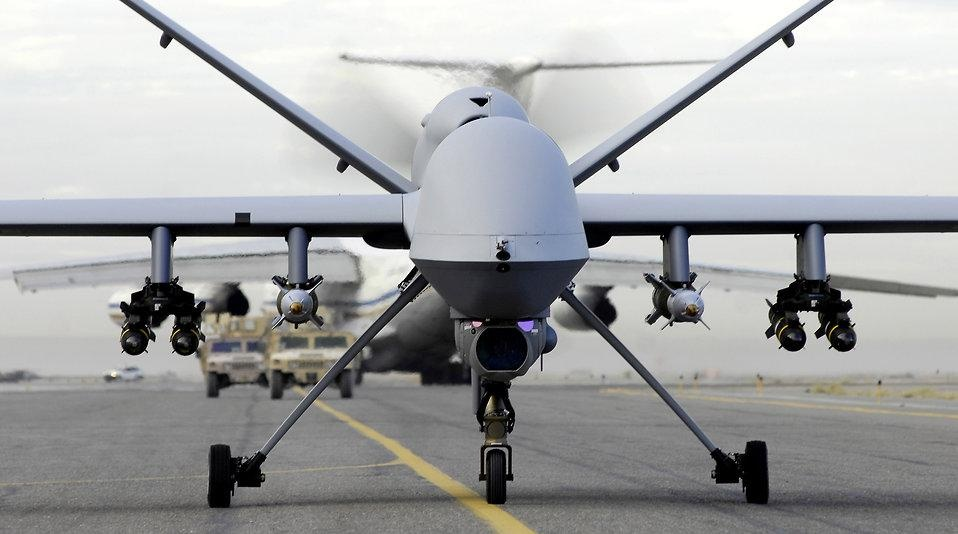aircraft: (18, 0, 944, 496)
